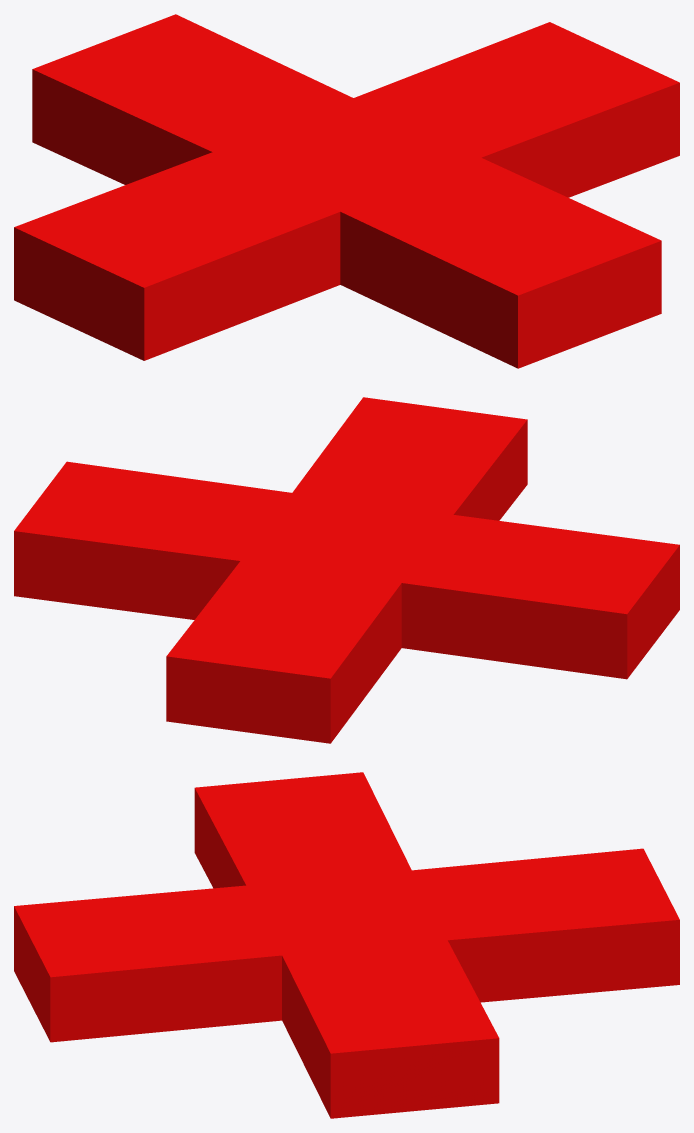
File: quitButton.fbx
The picture shows the model from 3 angles, top to bottom: view 1: azimuth 30°, elevation 25°; view 2: azimuth 150°, elevation 25°; view 3: azimuth 270°, elevation 25°; orthographic projection. The views are drawn at different scales.
Visible parts, largest first — view 1: 원형; view 2: 원형; view 3: 원형.
Part boxes in pixels (x1,y1,x2,y2): 원형: (14, 14, 679, 368); 원형: (14, 397, 679, 743); 원형: (14, 772, 679, 1118).
Bounding box in the file's own units: 200 × 21.55 × 200.
